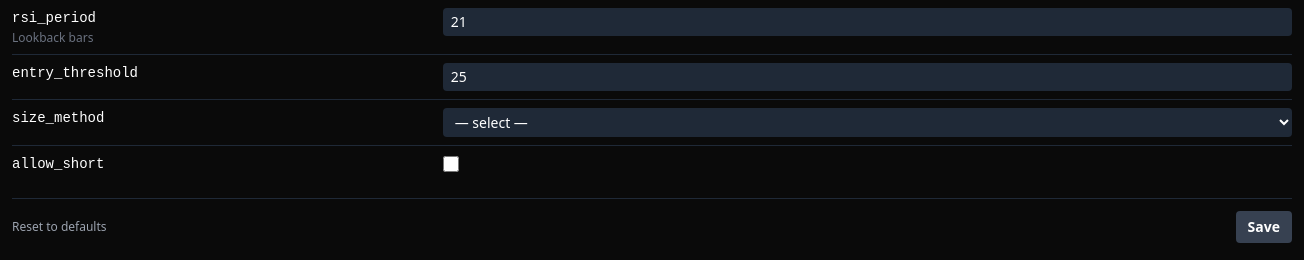
Test case: ParamForm › Reset to defaults repopulates from schema defaults
Click the button "Reset to defaults": x=59, y=227 [12,219,106,235]
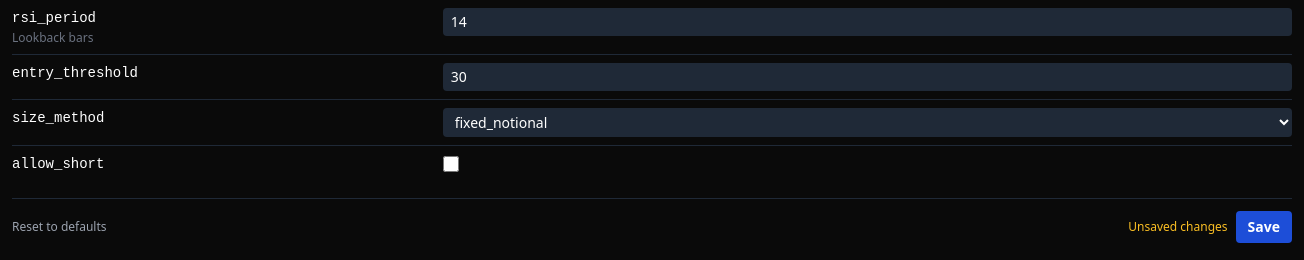
Result: the number field showing "14" in the row of "rsi_period" holds "14" at [443,8,1292,36]
Result: the number field showing "30" in the row of "entry_threshold" holds "30" at [443,63,1292,91]
